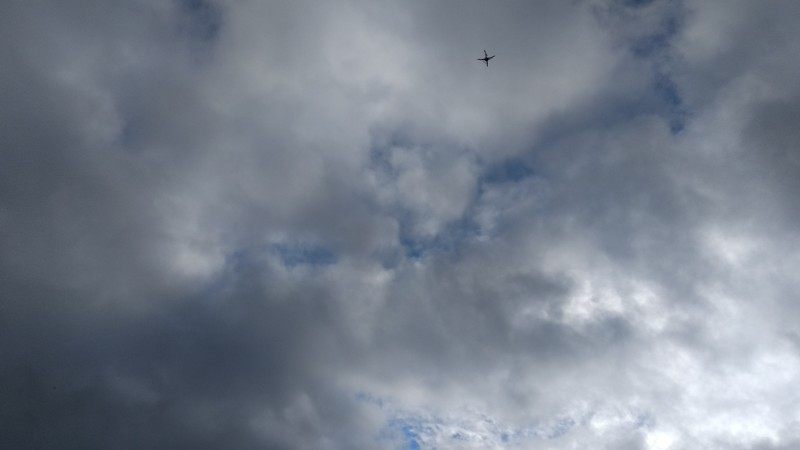drone: (477, 51, 496, 66)
